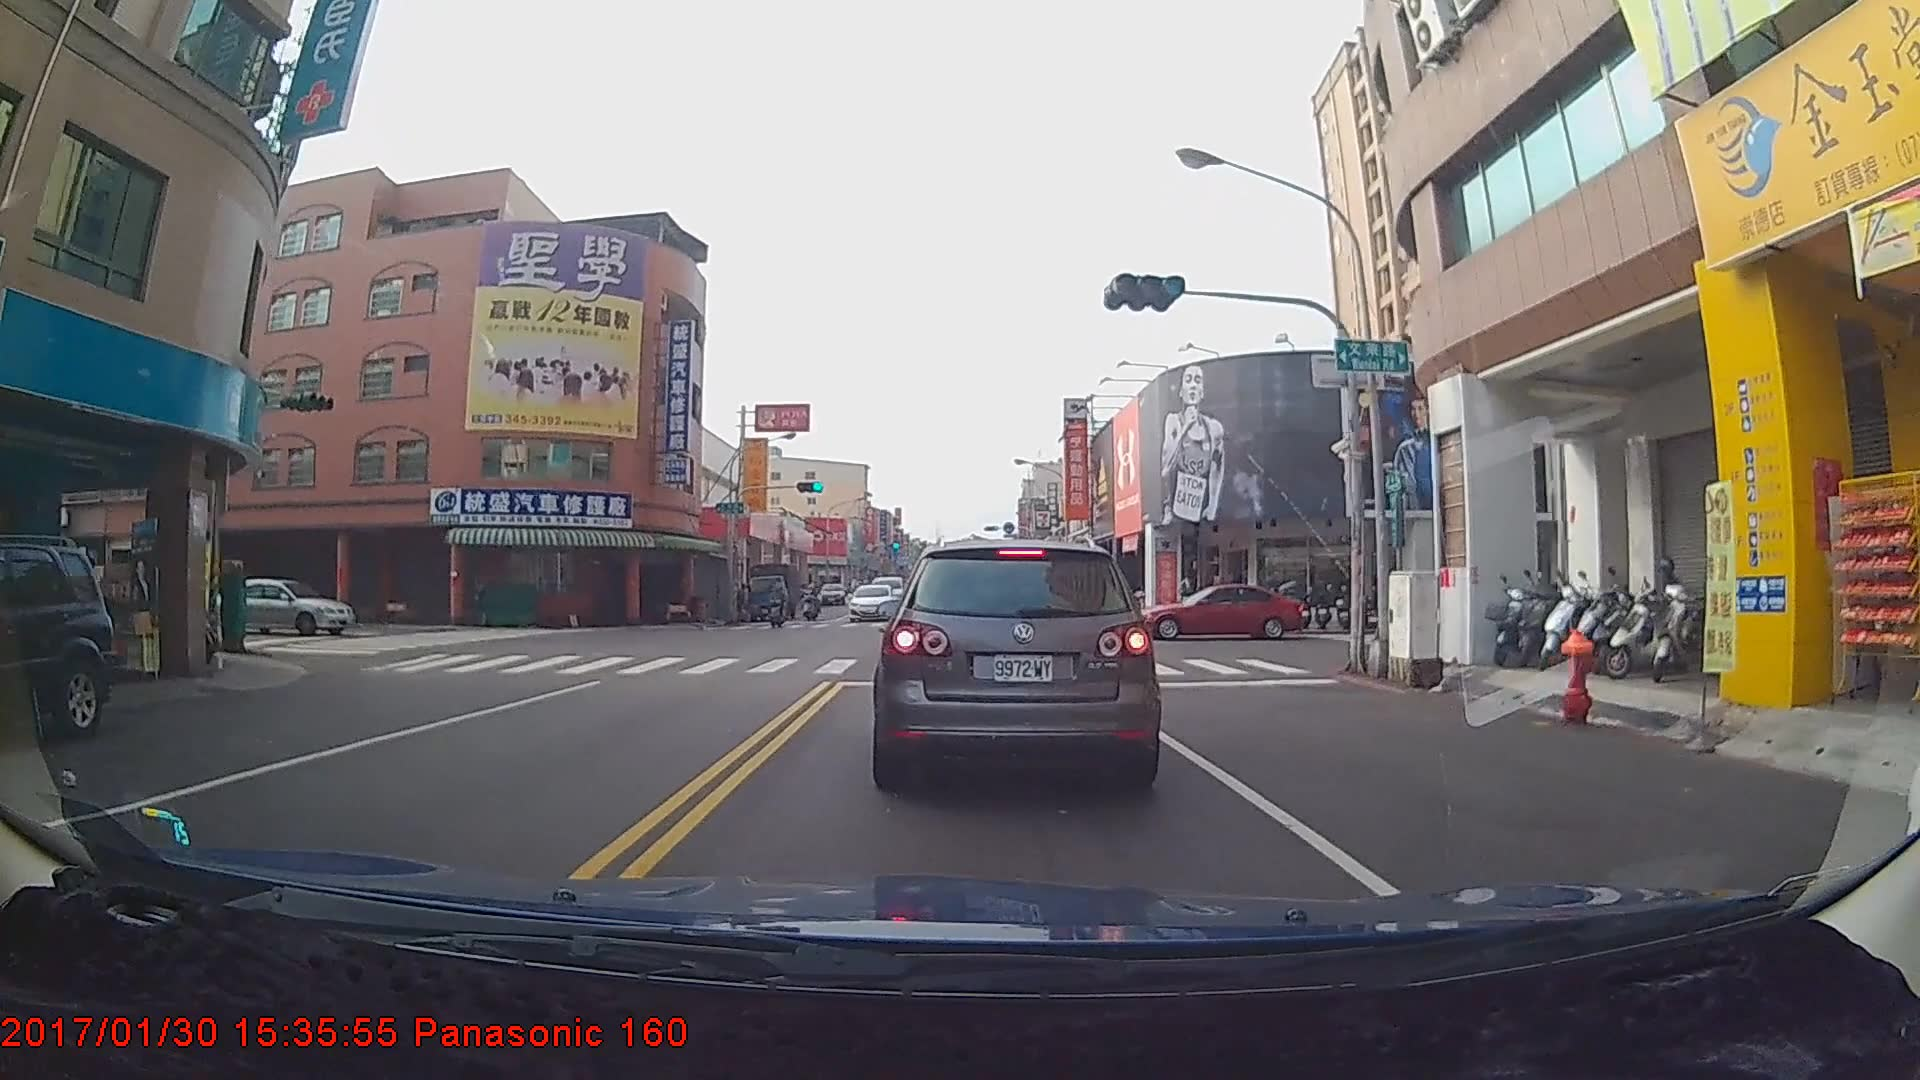rider: (760, 584, 794, 633), (801, 585, 827, 627)
vehicle: (877, 532, 1157, 789), (0, 539, 115, 744), (1138, 582, 1310, 639), (202, 571, 353, 632), (744, 560, 798, 618), (847, 582, 896, 622)
